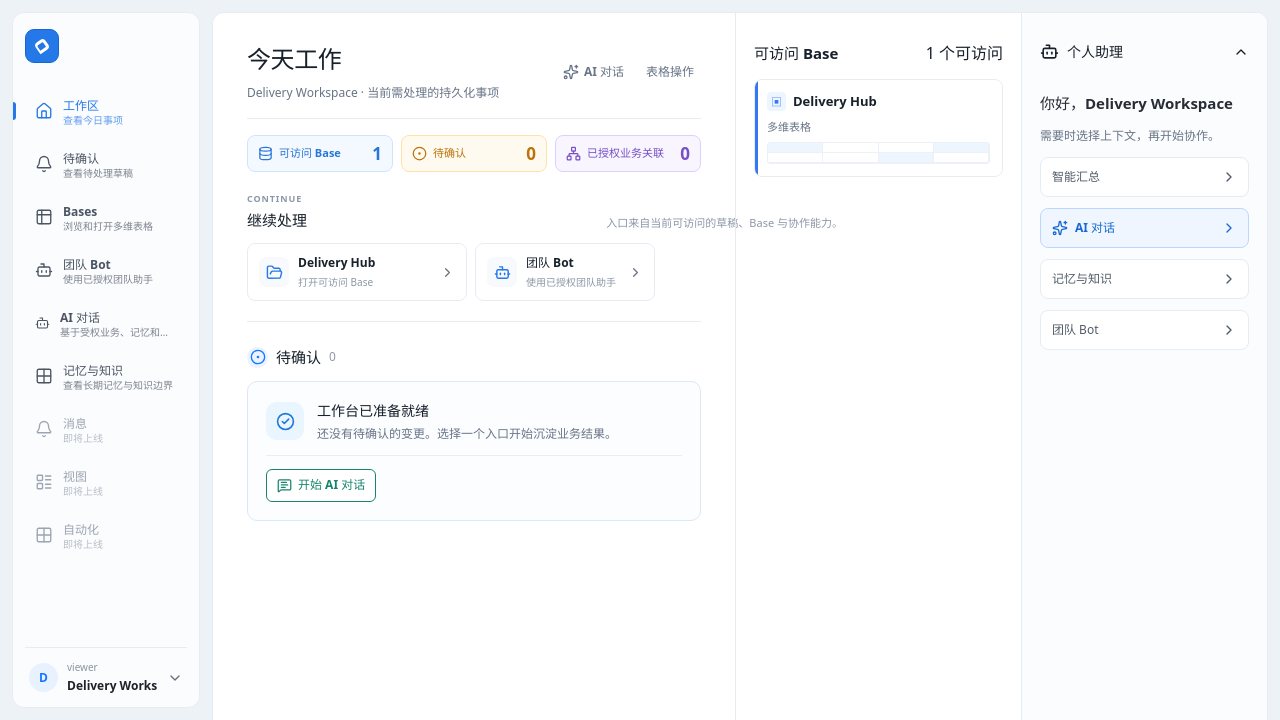
Test: keeps the authorized Customer -> Project -> Task route server-backed and free of opaque identifiers
Click the link "▣ Delivery Hub 多维表格".
click(878, 128)  # box [754,79,1003,177]
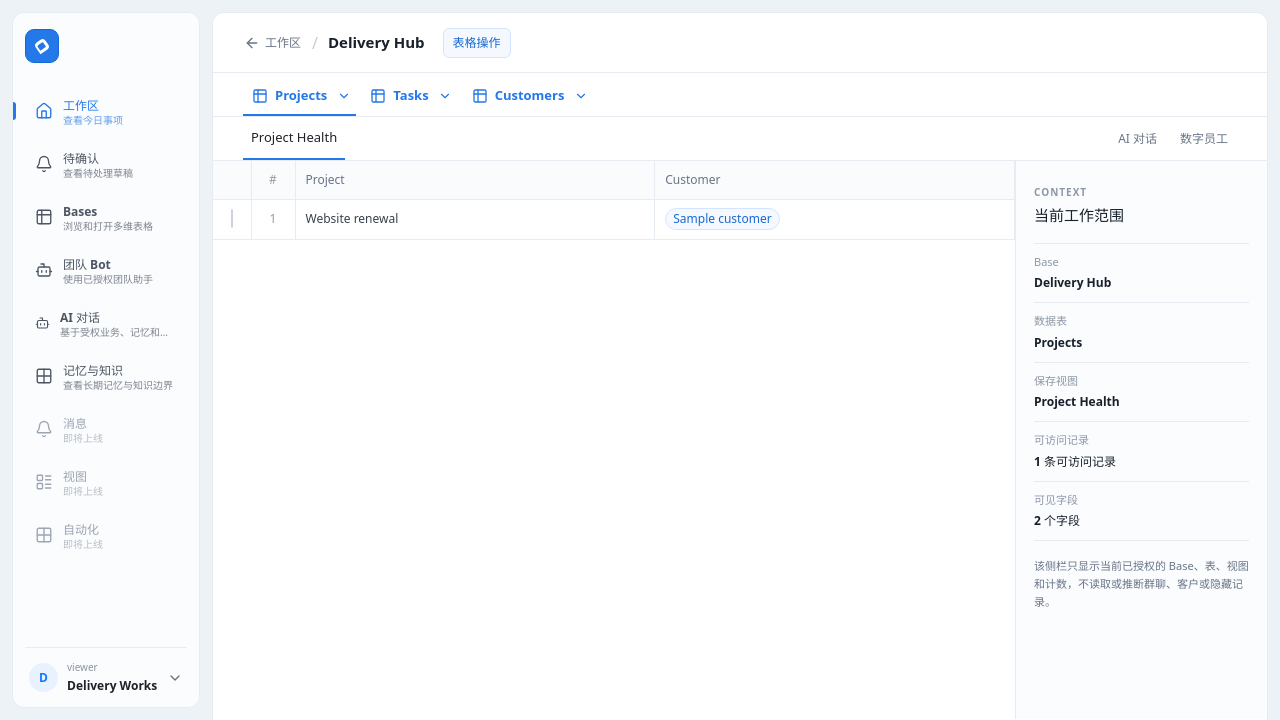
Expected: the cell "Website renewal" is shown, [295,199,655,239]
Expected: the text "Sample customer" is shown, [665,208,780,230]
Click the tab "Tasks".
click(397, 96)  # box [361,78,433,114]
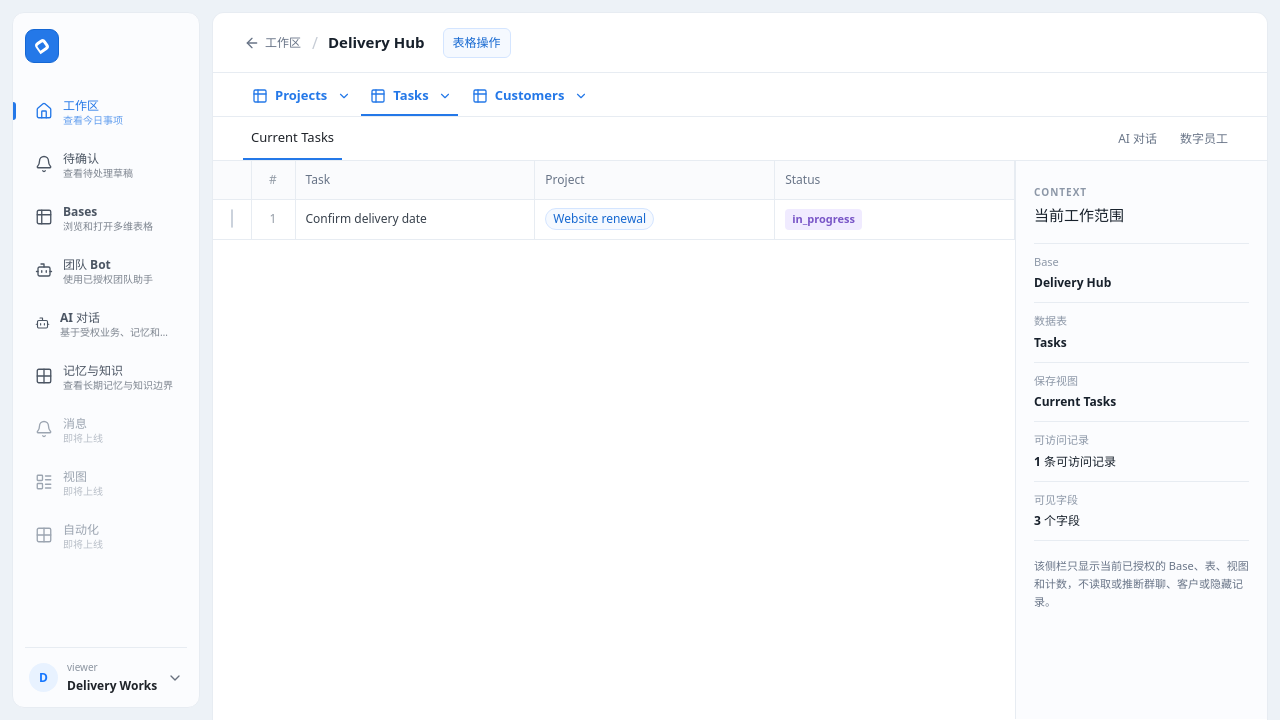
Click the cell "Confirm delivery date".
click(415, 219)  # box [295,199,535,239]
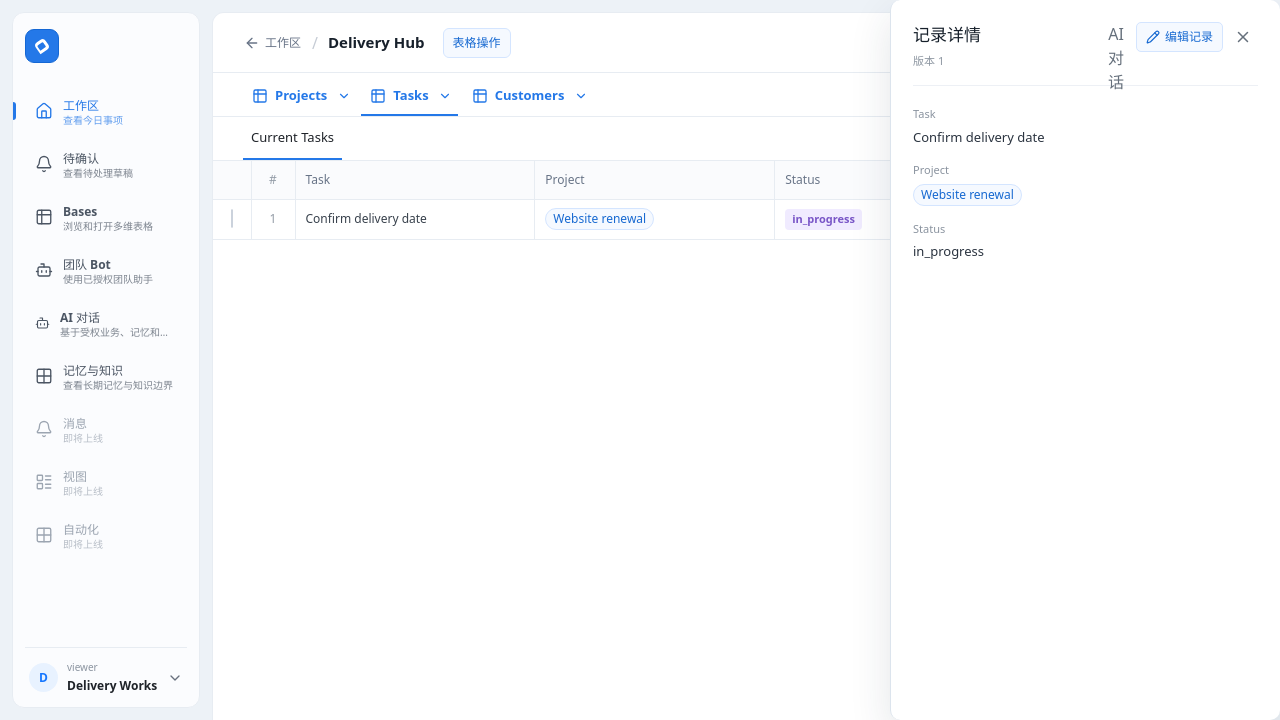
Expected: the element "记录详情" is shown, [890,0,1279,719]
Click the button named "关闭记录详情".
click(1243, 37)  # box [1228,22,1258,52]
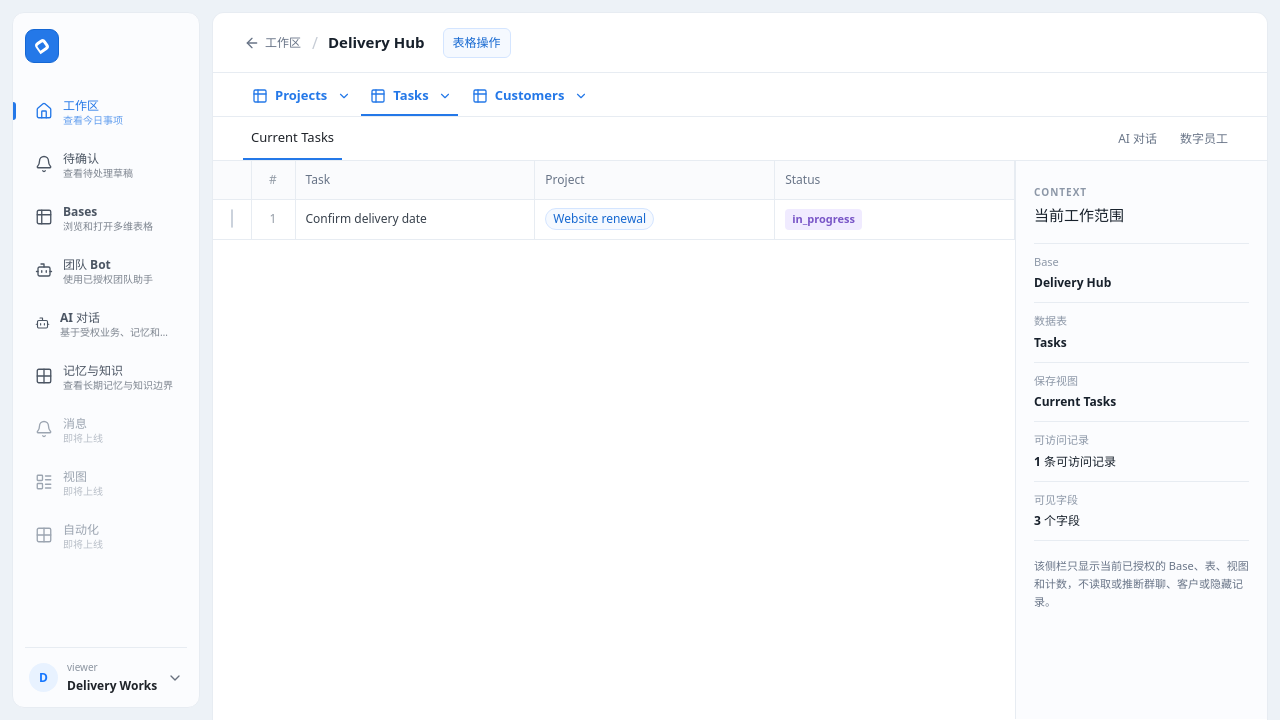
Click the tab "Projects".
click(287, 96)  # box [243,78,331,114]
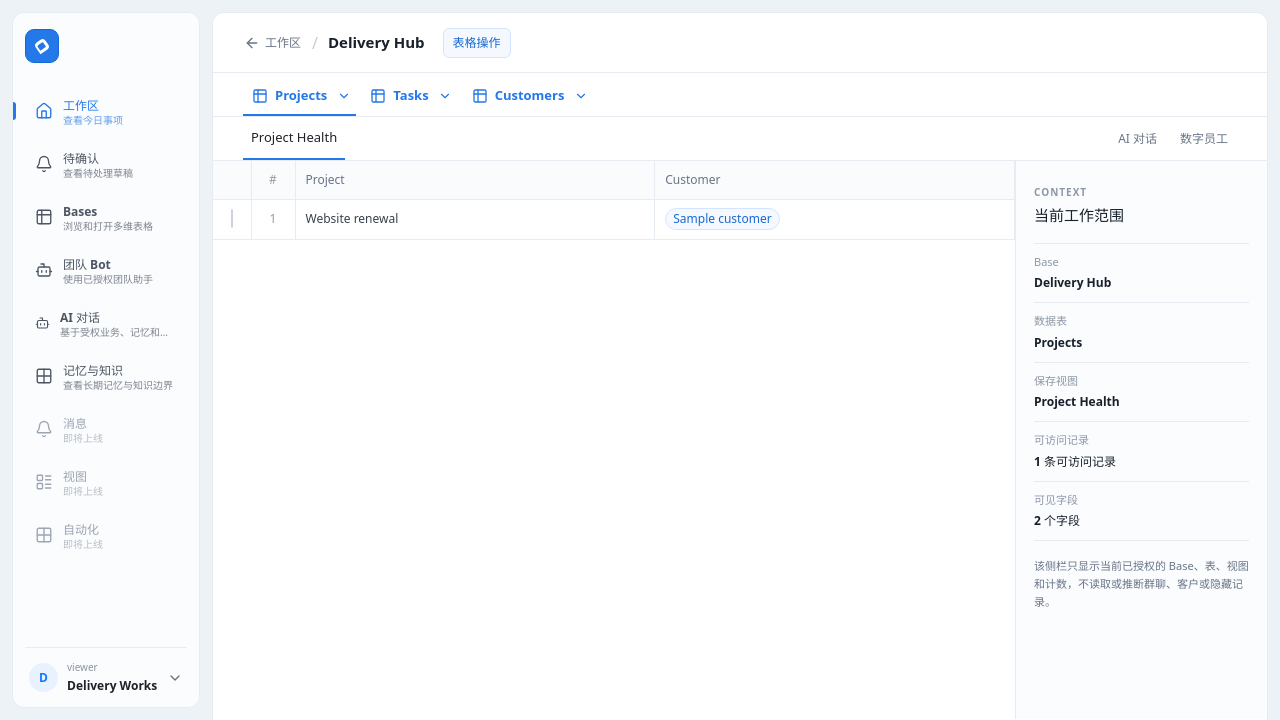
Expected: the cell "Website renewal" is shown, [295,199,655,239]
Click the button with class "back-link".
click(272, 42)  # box [243,28,302,58]
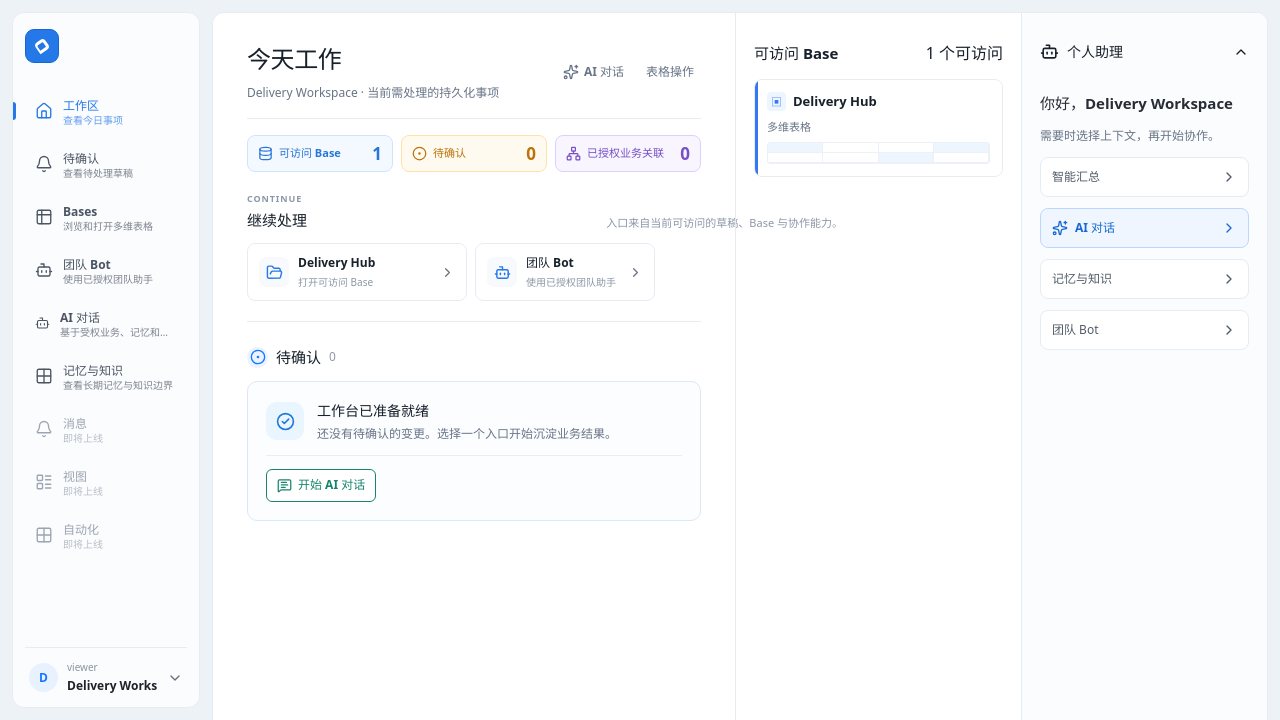
Expected: the link "▣ Delivery Hub 多维表格" is shown, [754,79,1003,177]
